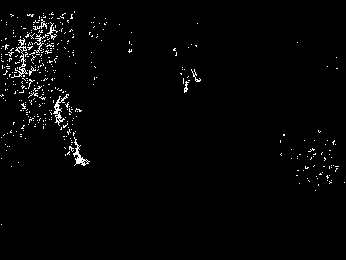person: (50, 90, 95, 168)
